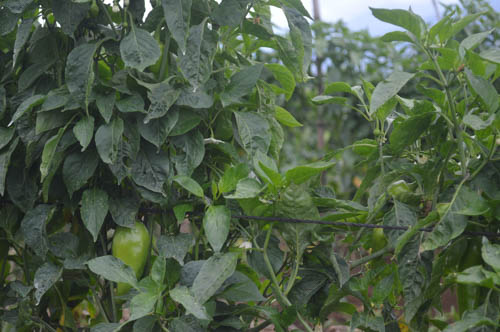ChiliPepper: (111, 225, 150, 282)
